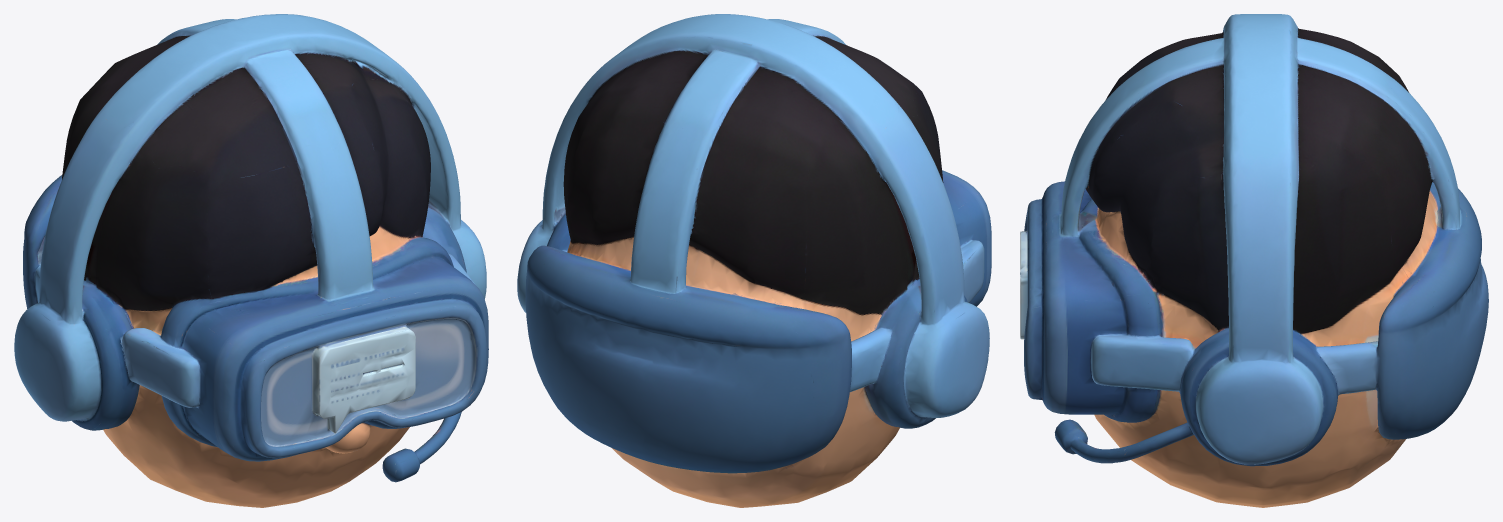
Rendered from transcricao.glb.
3 views of the same model, side by side, from view 1: azimuth 30°, elevation 25°; view 2: azimuth 150°, elevation 25°; view 3: azimuth 270°, elevation 25° (orthographic).
Parts seen in each view (by area): view 1: Mesh_0; view 2: Mesh_0; view 3: Mesh_0.
Boxes of the visible parts, x1,y1,x2,y2 form: Mesh_0: (14,14,488,507); Mesh_0: (517,14,991,507); Mesh_0: (1020,14,1488,507).
Bounding box in the file's own units: 1.88 × 1.91 × 1.8.
1 material, 1 textured.
